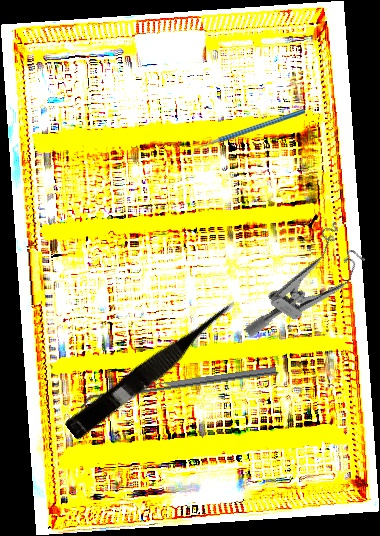Chopper: (190, 109, 305, 158)
Micro Scissor: (63, 294, 245, 445)
Spatula Surgical: (79, 366, 278, 410)
Speculum: (243, 213, 374, 366)
